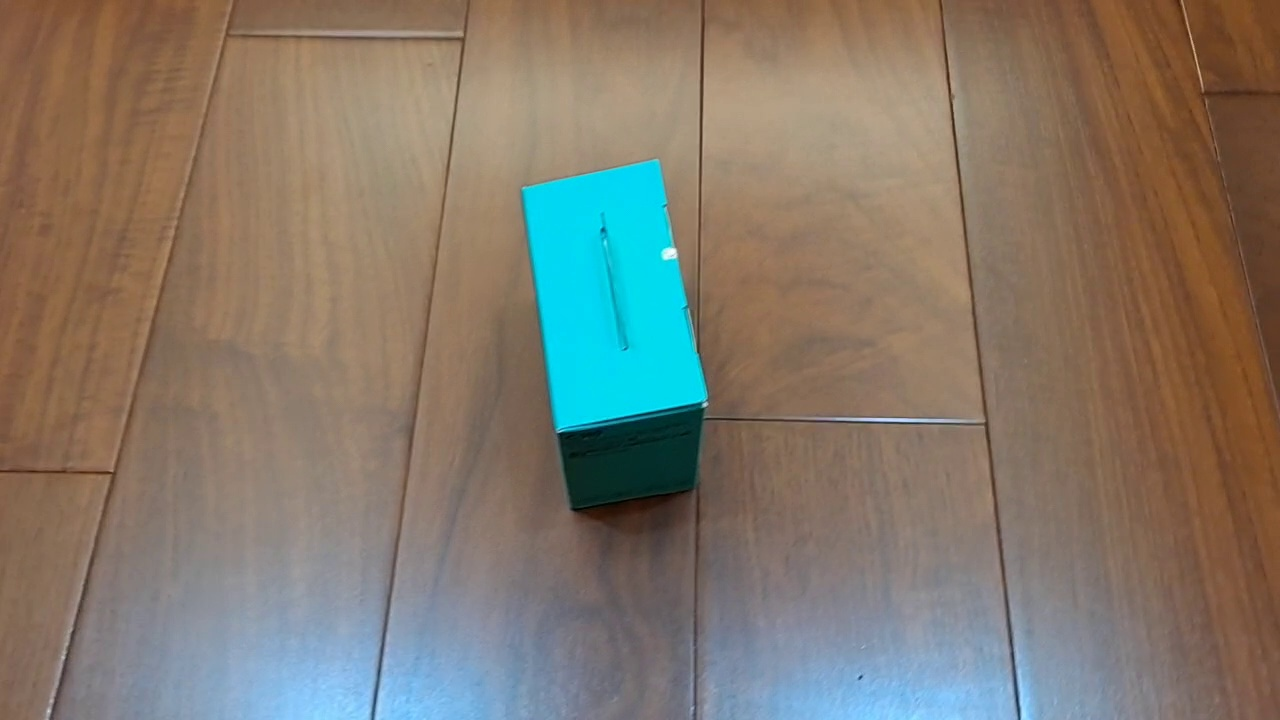webcam: (520, 158, 709, 511)
